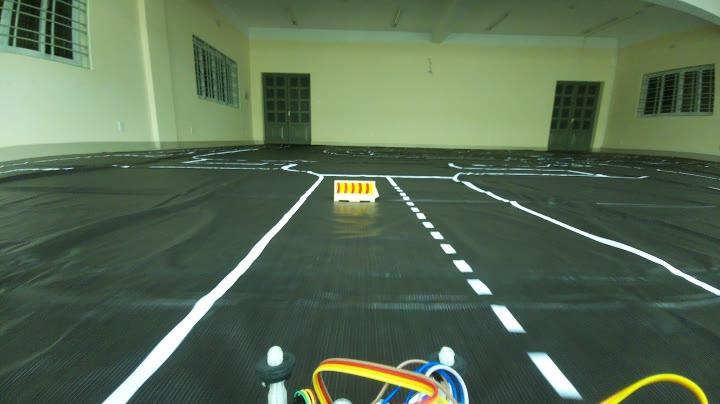roadblock: (329, 172, 382, 209)
